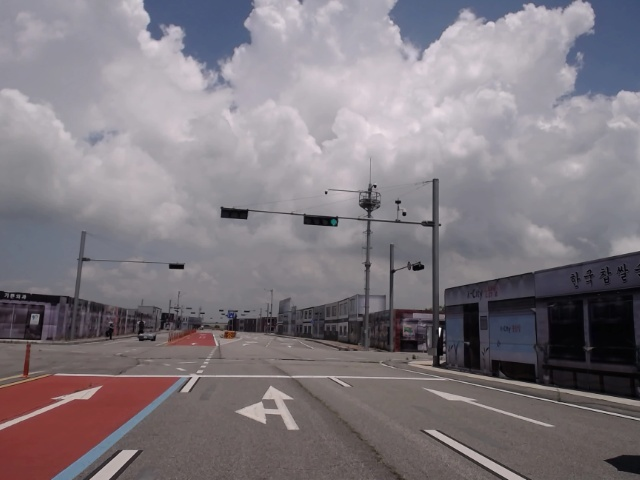straight_green_4: (303, 214, 339, 227)
